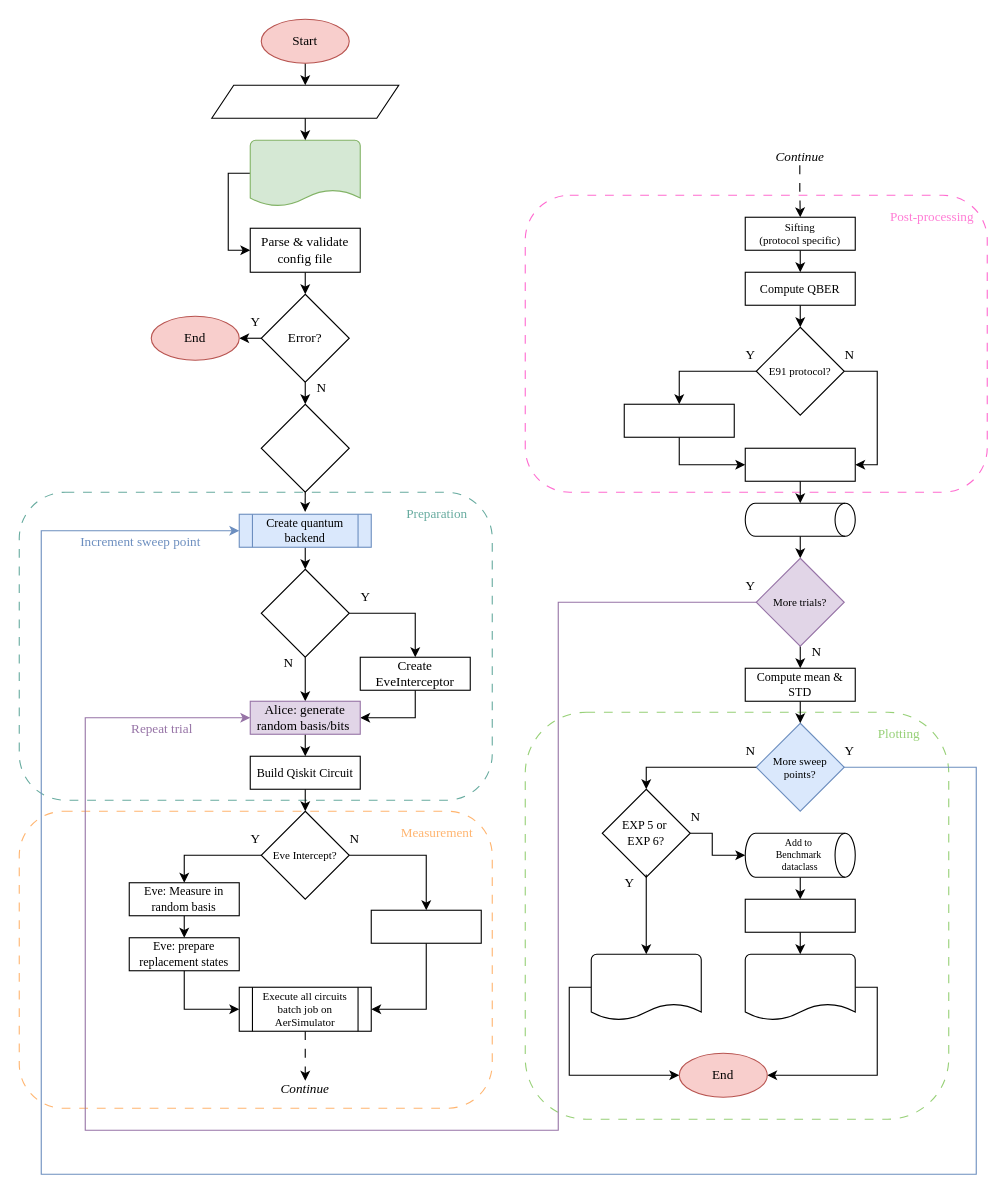
Image size: 1007x1202. Some labels were removed from this diagram. The centre of each missing label's shape, as x and y in pixels:
Active Eve?: point 304,612
Bob: Measure in random basis: point 425,926
Compute CHSH parameter: point 678,420
Compute mutual information: point 799,464
Determine experiment mode: point 304,447
Plot results: point 799,915
Read .YAML config file: point 304,172
Store trial results: point 799,519
User runs command line input: point 305,101
Write plot data to .csv file: point 645,986
Write plot files to output directory: point 799,986
